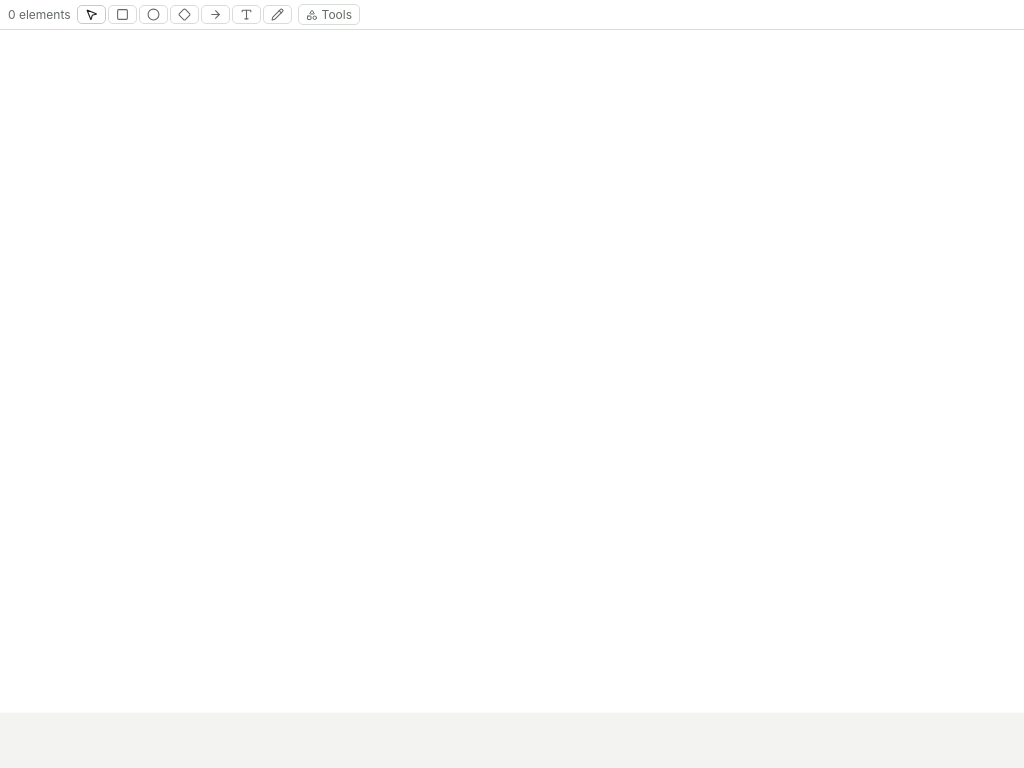
Test: WhiteboardNodeFace popover › attaches the specification to an agent from the roster
The width and height of the screenshot is (1024, 768).
Click the button with aria-label "Whiteboard tools" at coordinates (329, 14), box [298,4,360,25]
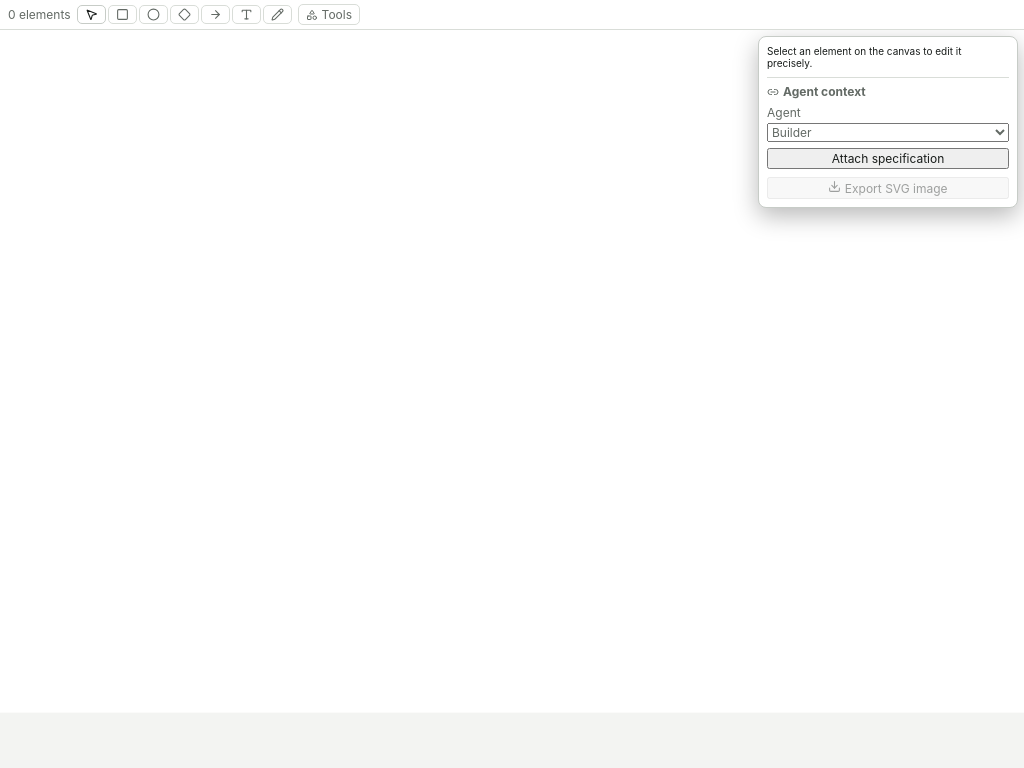
Click the button "Attach specification" at coordinates (888, 158), box [767,148,1009,169]
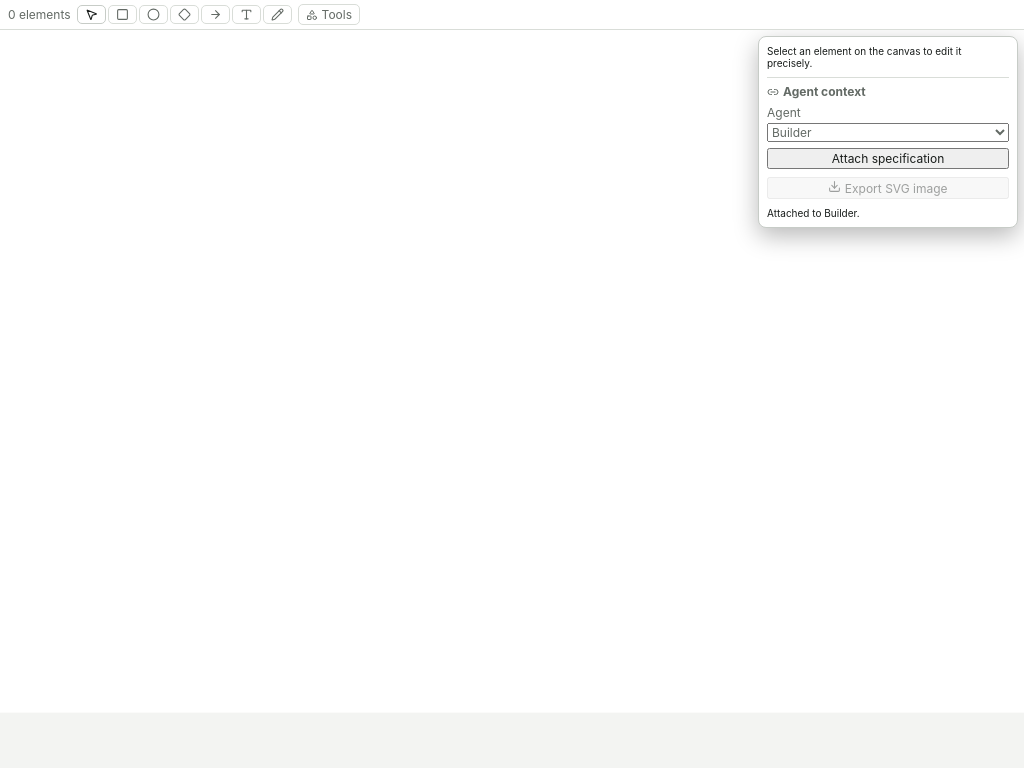
expect the text "Attached to Builder." is shown: met, box [767,207,860,219]
